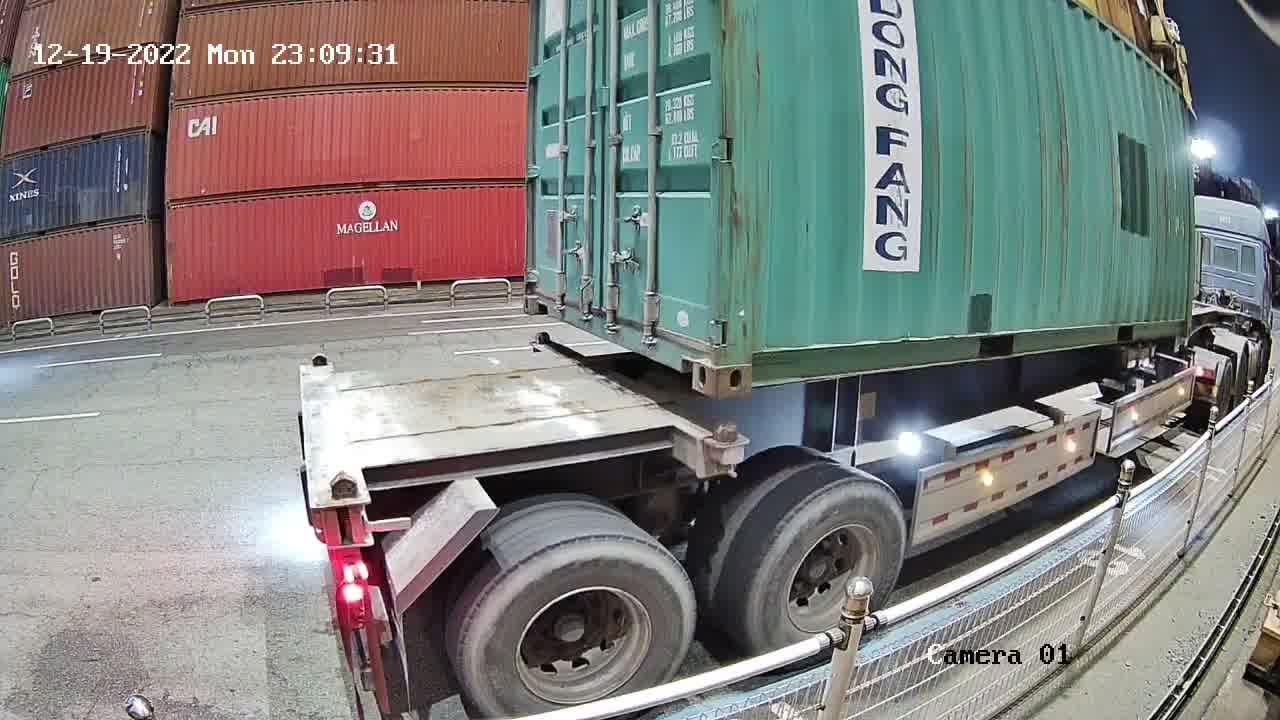Chassis: (530, 337, 745, 452)
Cone: (706, 419, 745, 476), (531, 329, 552, 348)
Hole_L: (719, 323, 788, 397), (523, 271, 559, 319)
Hole_R: (669, 313, 720, 398)
Tire: (462, 540, 694, 719), (751, 484, 906, 675)
